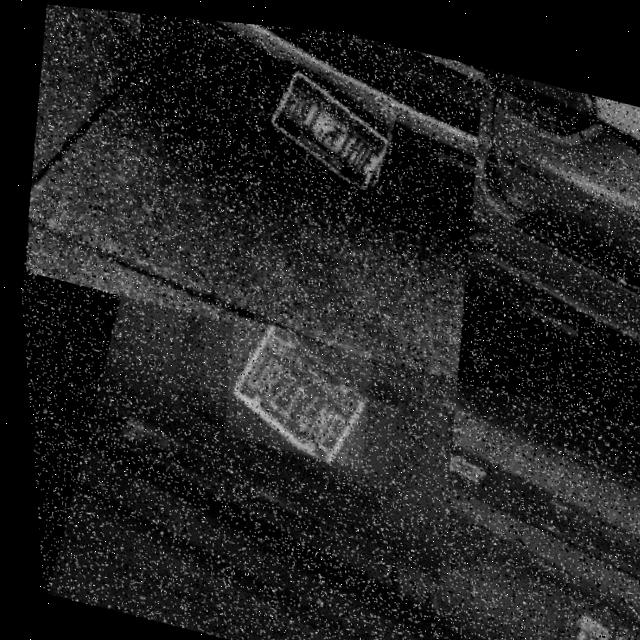LicensePlate: (210, 311, 375, 464), (266, 58, 388, 180), (536, 580, 636, 640)
